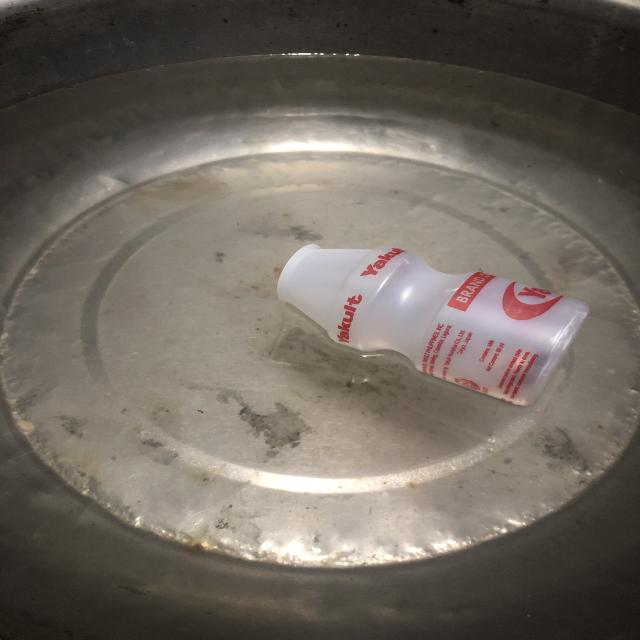Plastic Bottle: (267, 215, 597, 426)
